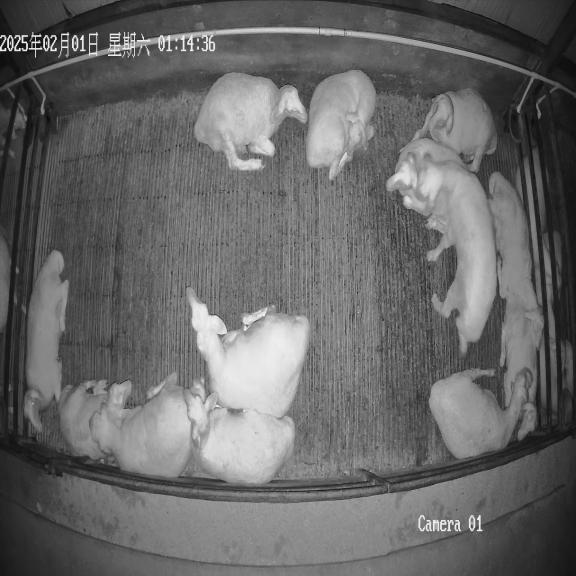lying: (186, 288, 310, 418), (194, 73, 307, 171), (90, 372, 192, 477), (186, 394, 295, 484), (489, 172, 543, 346), (429, 369, 530, 459), (23, 250, 69, 433), (386, 138, 468, 234), (305, 70, 376, 180), (411, 88, 497, 172), (58, 380, 132, 460), (500, 298, 537, 440), (274, 344, 280, 351)
stand: (415, 159, 497, 355)
